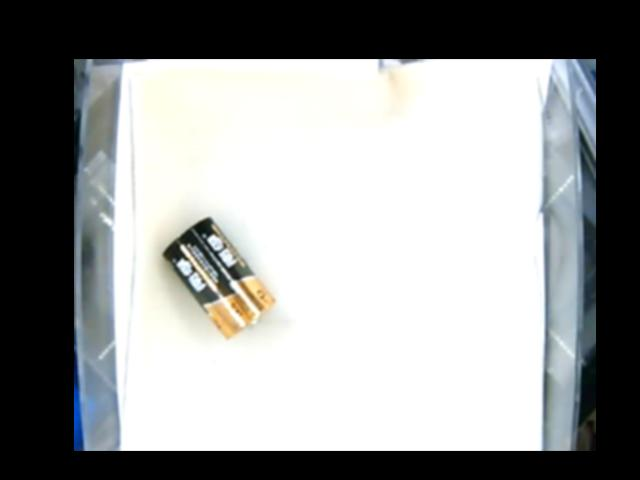Battery: (163, 215, 272, 343)
